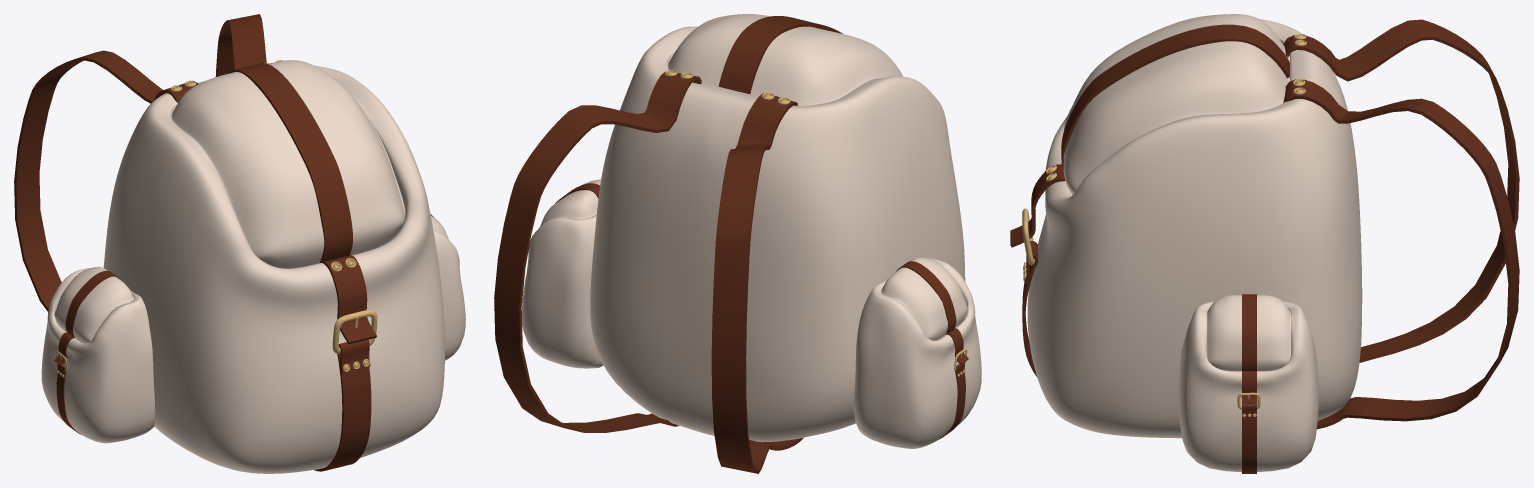
The model's file is bagfinal.glb.
The picture shows the model from 3 angles, left to right: view 1: azimuth 30°, elevation 25°; view 2: azimuth 150°, elevation 25°; view 3: azimuth 270°, elevation 25°; orthographic projection. The views are drawn at different scales.
Visible parts, largest first — view 1: bag, strap, metal; view 2: bag, strap; view 3: bag, strap, metal.
Boxes of the visible parts, x1,y1,x2,y2 form: bag: [41, 60, 465, 473]; strap: [14, 14, 434, 471]; metal: [55, 60, 377, 377]; bag: [521, 14, 981, 448]; strap: [494, 16, 968, 473]; bag: [1027, 14, 1362, 472]; strap: [1010, 19, 1519, 473]; metal: [1022, 33, 1306, 416].
Size of the model in its own units: 73.1 by 62.09 by 76.9.
